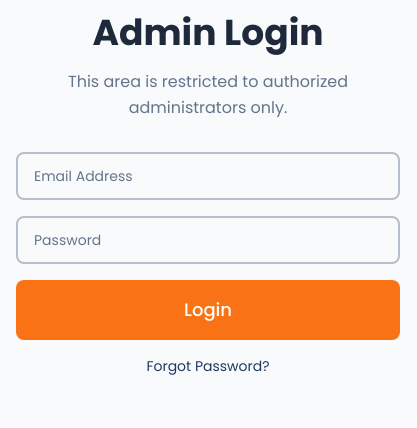
Scenario: LoginSection › shows error message when login fails
Type "wrong@example.com" into the field with placeholder "Email Address" at x=208, y=176, box [16, 152, 400, 200]
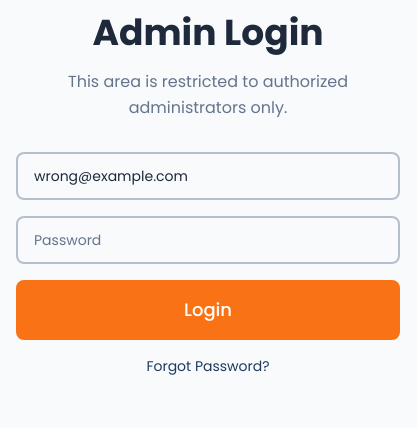
Type "wrongpass" into the password field with placeholder "Password" at x=208, y=240, box [16, 216, 400, 264]
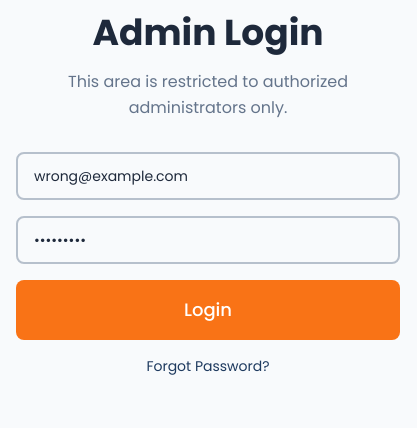
Click the button "Login" at x=208, y=310, box [16, 280, 400, 340]
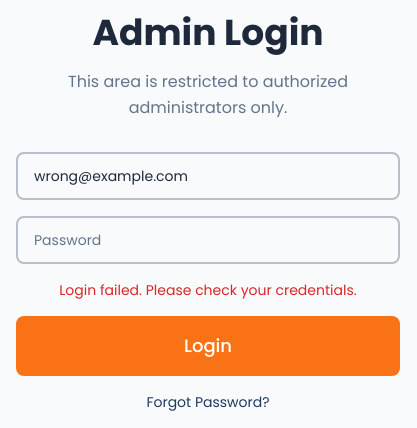
Result: the text "Login failed. Please check your credentials." is shown at [59, 280, 357, 300]
